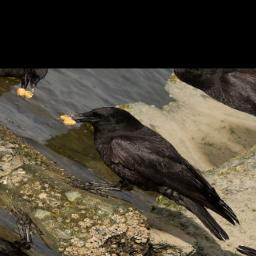Crow: (8, 93, 256, 256)
